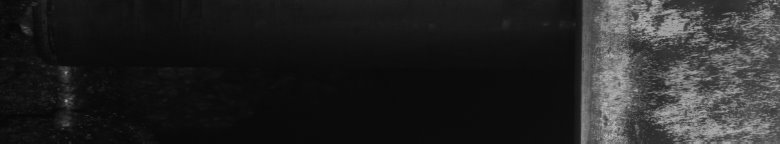kb: (600, 4, 776, 136)
